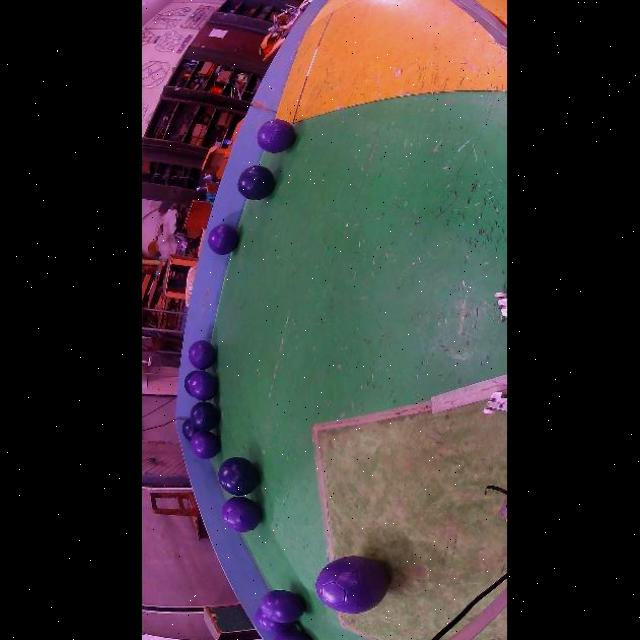B: (216, 456, 257, 496), (235, 166, 273, 200), (188, 402, 217, 431), (182, 370, 196, 397), (181, 420, 196, 441)
P: (314, 557, 388, 614), (259, 590, 304, 623), (220, 497, 259, 533), (255, 120, 294, 153), (253, 609, 292, 633), (206, 224, 236, 254), (187, 371, 216, 401), (188, 431, 219, 459), (187, 341, 215, 370), (271, 628, 310, 640)
